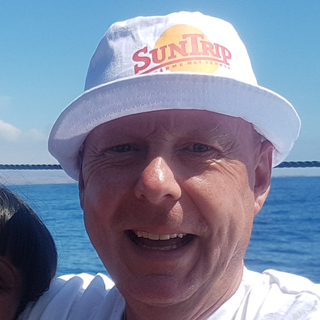eye: (176, 139, 216, 160), (101, 141, 141, 156)
